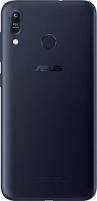asus: (1, 1, 97, 201)
